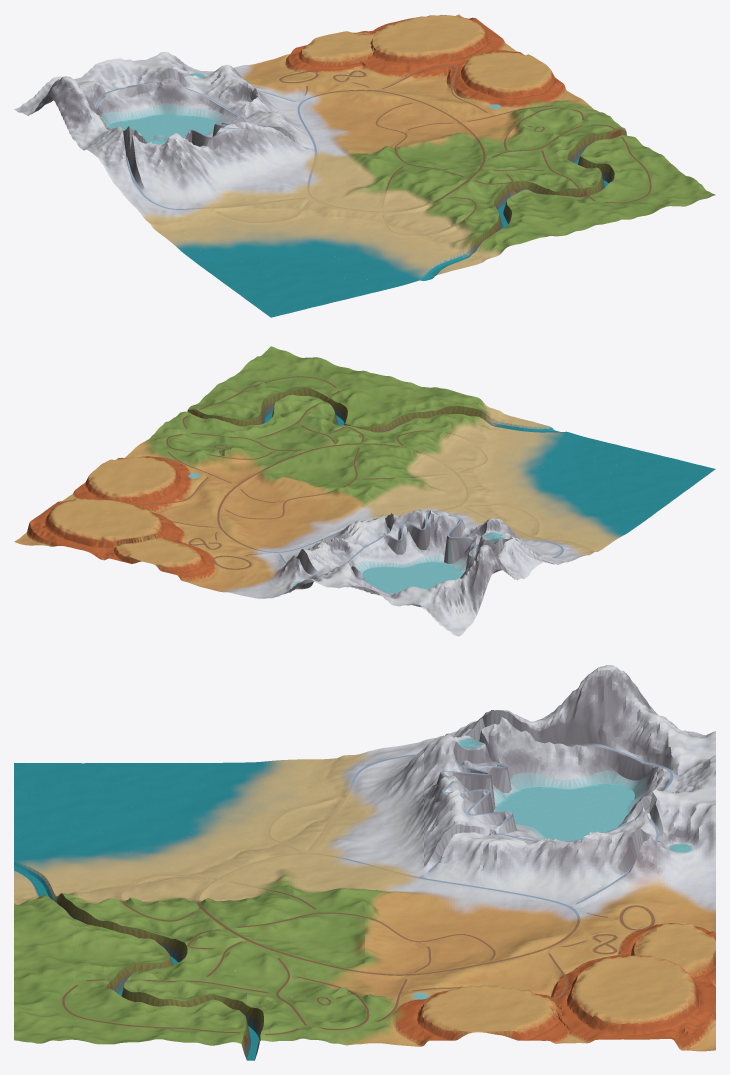
The model's file is terrain_lod0.glb.
3 renders of one model, top to bottom at view 1: azimuth 30°, elevation 25°; view 2: azimuth 150°, elevation 25°; view 3: azimuth 270°, elevation 25°, orthographic. The views are drawn at different scales.
Visible parts, largest first — view 1: chunk_3_10, chunk_1_6, chunk_0_7, chunk_0_9, chunk_2_11, chunk_2_6, chunk_9_9, chunk_4_9, chunk_3_6, chunk_2_10, chunk_1_7, chunk_0_6 (+122 smaller); view 2: chunk_0_11, chunk_3_8, chunk_0_10, chunk_2_8, chunk_9_11, chunk_7_11, chunk_10_11, chunk_4_8, chunk_0_8, chunk_10_8, chunk_11_11, chunk_10_2 (+114 smaller); view 3: chunk_1_8, chunk_1_10, chunk_5_10, chunk_5_9, chunk_1_9, chunk_4_11, chunk_5_8, chunk_0_10, chunk_0_9, chunk_4_7, chunk_11_11, chunk_5_7 (+129 smaller).
Part boxes in pixels (x1,y1,x2,y2): chunk_3_10: (145, 68, 204, 122); chunk_1_6: (158, 152, 216, 205); chunk_0_7: (99, 135, 157, 191); chunk_0_9: (57, 80, 106, 144); chunk_2_11: (87, 58, 146, 100); chunk_2_6: (196, 156, 253, 198); chunk_9_9: (390, 48, 447, 86); chunk_4_9: (205, 80, 263, 123); chunk_3_6: (232, 151, 289, 188); chunk_2_10: (110, 93, 168, 130); chunk_1_7: (140, 133, 194, 175); chunk_0_6: (121, 176, 179, 215); chunk_0_11: (422, 581, 480, 636); chunk_3_8: (375, 526, 433, 571); chunk_0_10: (445, 545, 501, 604); chunk_2_8: (412, 532, 469, 579); chunk_9_11: (88, 528, 146, 561); chunk_7_11: (162, 550, 219, 586); chunk_10_11: (51, 519, 109, 551); chunk_4_8: (343, 520, 396, 558); chunk_0_8: (493, 538, 543, 578); chunk_10_8: (116, 474, 173, 507); chunk_11_11: (14, 514, 72, 546); chunk_10_2: (245, 386, 301, 422); chunk_1_8: (479, 717, 541, 797); chunk_1_10: (596, 719, 659, 797); chunk_5_10: (597, 830, 656, 897); chunk_5_9: (539, 836, 600, 900); chunk_1_9: (539, 732, 601, 796); chunk_4_11: (656, 804, 715, 867); chunk_5_8: (480, 844, 541, 900); chunk_0_10: (598, 665, 656, 739); chunk_0_9: (539, 668, 600, 746); chunk_4_7: (422, 809, 484, 869); chunk_11_11: (657, 1003, 715, 1051); chunk_5_7: (421, 849, 484, 899).
Size of the model in its own units: 2400 by 405 by 2400.
